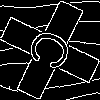C: (25, 25, 83, 78)
